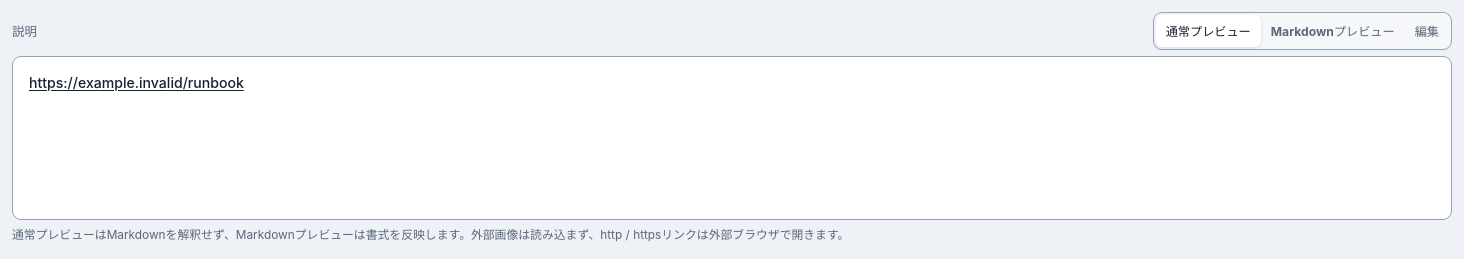
MarkdownDescriptionField › reports an opener failure in the plain preview and allows retry
The image size is (1464, 259).
Click the link "https://example.invalid/runbook".
click(136, 82)  # box top-left (29, 74), bottom-right (244, 91)
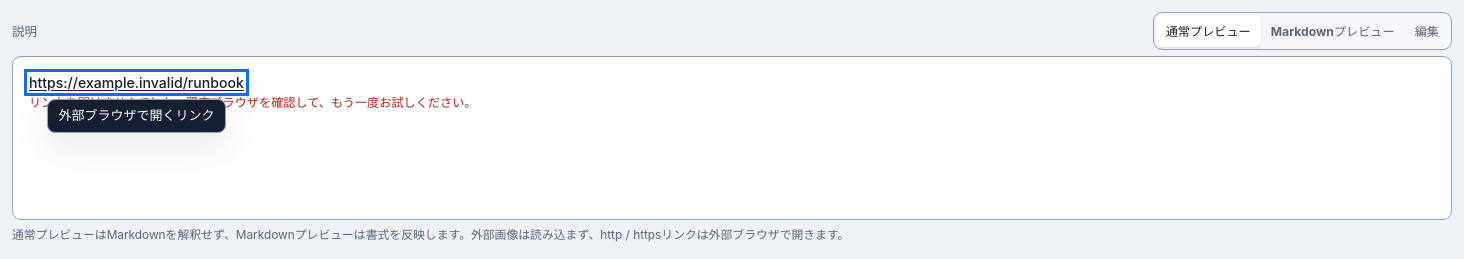
Check: the message shows "リンクを開けませんでした", box top-left (29, 95), bottom-right (476, 110)
Click the link "https://example.invalid/runbook".
click(136, 82)  # box top-left (29, 74), bottom-right (244, 91)
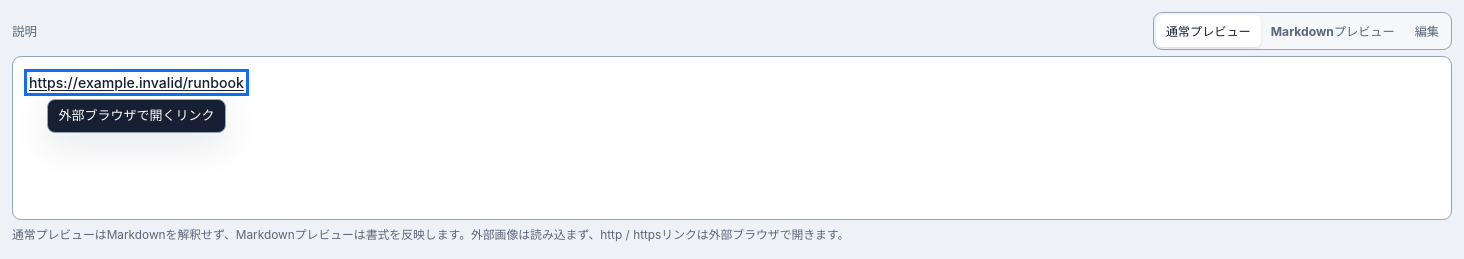
Check: the message "リンクを開けませんでした。既定ブラウザを確認して、もう一度お試しください。" is gone
